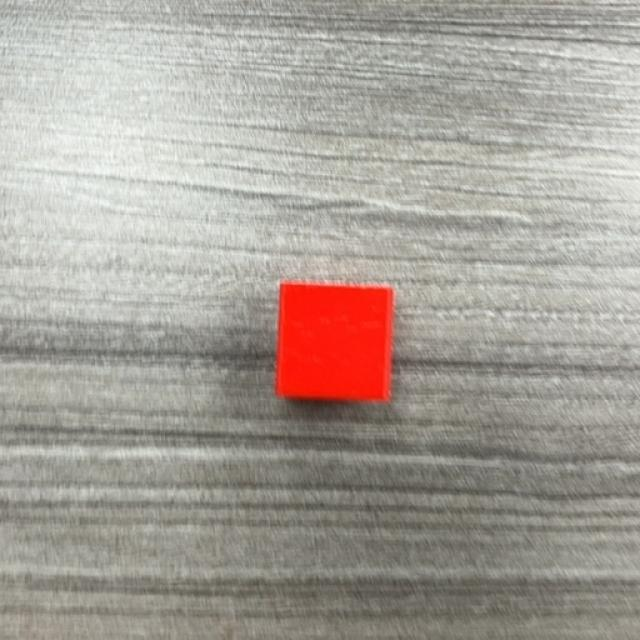Rojo: (276, 282, 398, 405)
